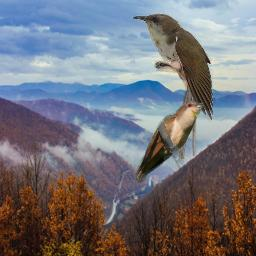Cuckoo: (132, 12, 213, 159), (133, 101, 204, 185)
